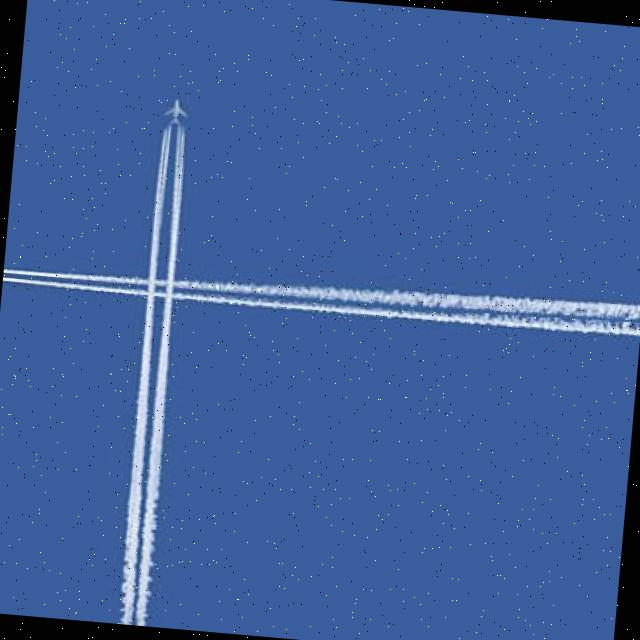Ct: (1, 39, 640, 605)
